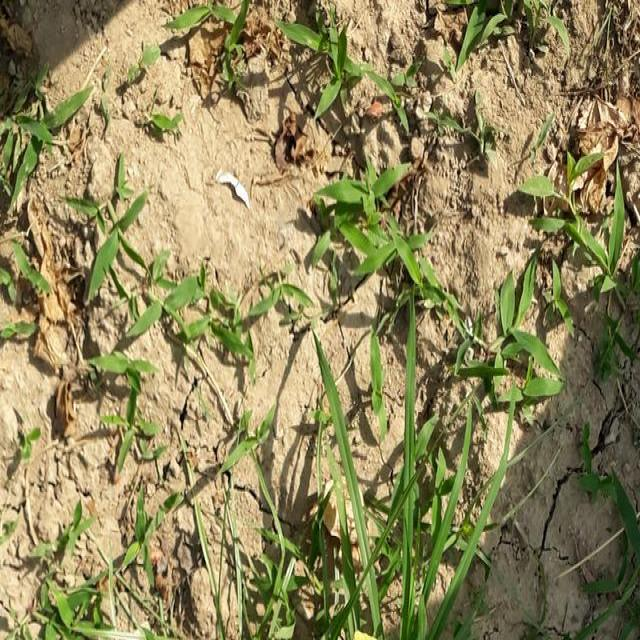weed: (279, 13, 465, 326), (300, 359, 496, 640), (513, 165, 640, 396)
